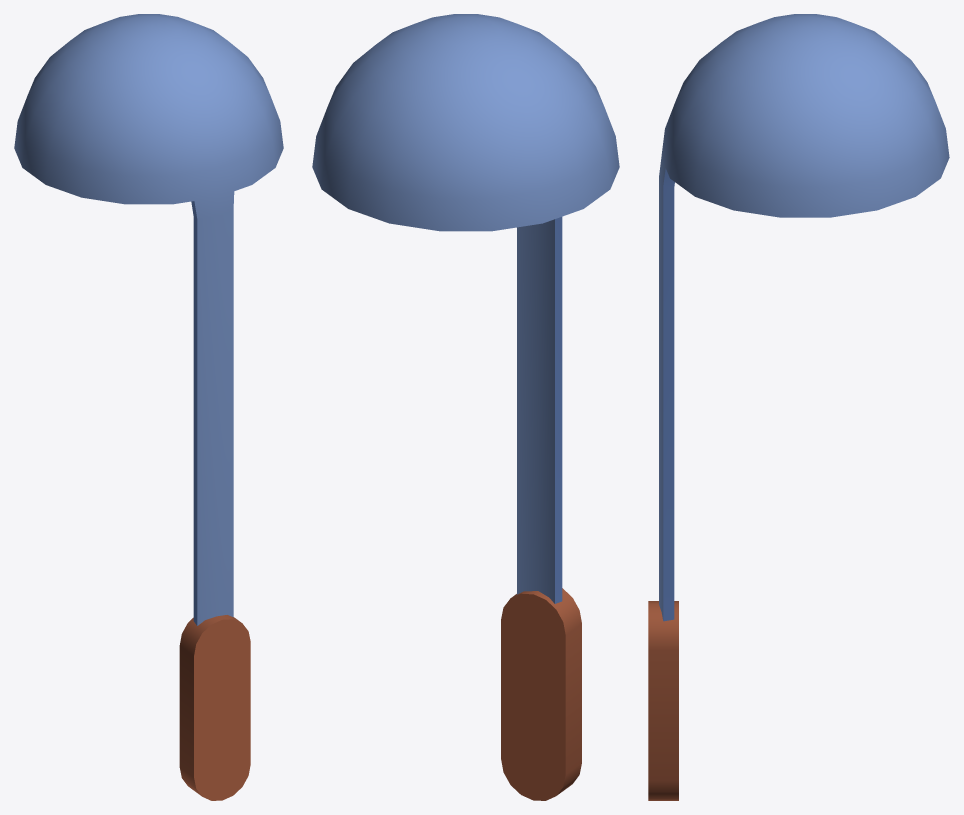
File: Scoop B.fbx
3 renders of one model, left to right at view 1: azimuth 30°, elevation 25°; view 2: azimuth 150°, elevation 25°; view 3: azimuth 270°, elevation 25°, orthographic. The views are drawn at different scales.
Visible parts, largest first — view 1: Scoop; view 2: Scoop; view 3: Scoop.
Boxes of the visible parts, x1,y1,x2,y2 form: Scoop: [14, 14, 283, 800]; Scoop: [312, 14, 619, 800]; Scoop: [648, 14, 949, 800].
Size of the model in its own units: 0.2763 by 0.8276 by 0.2931.
